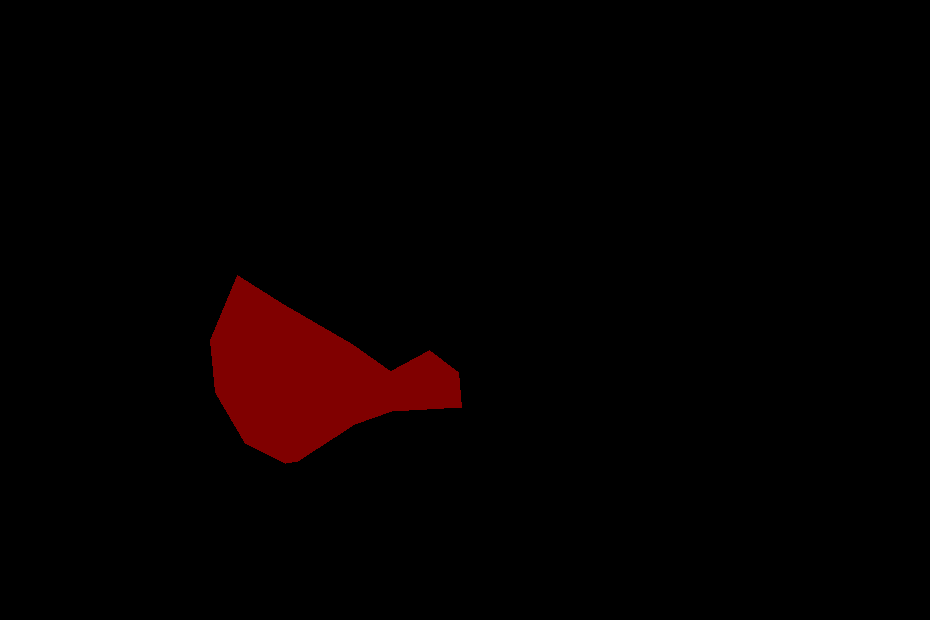fire: (210, 275, 461, 463)
